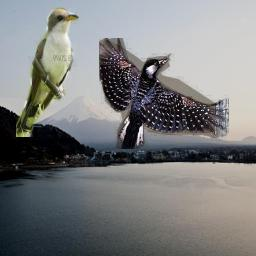Cuckoo: (16, 7, 79, 137)
Woodpecker: (99, 38, 229, 149)
